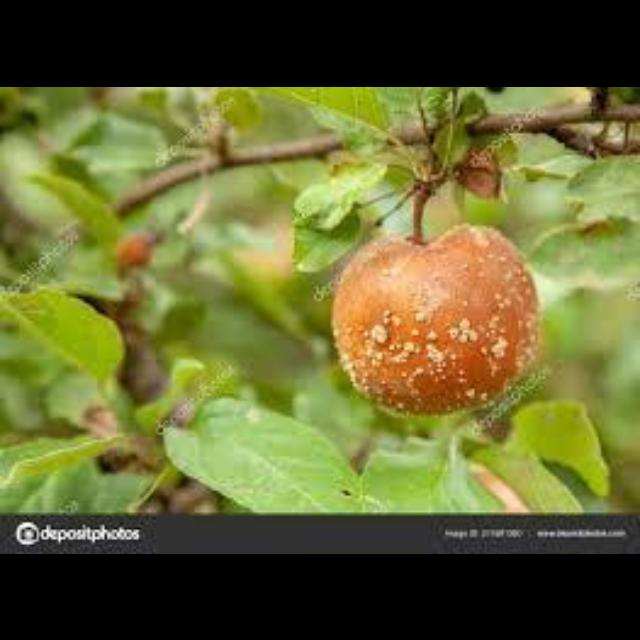apple: (331, 225, 538, 412)
rotten: (331, 225, 538, 412)
